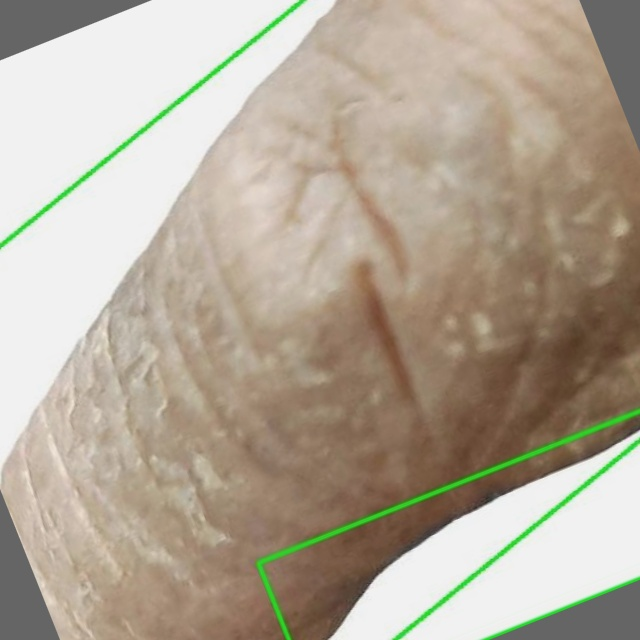Eczema: (0, 0, 639, 639), (258, 411, 639, 639)
